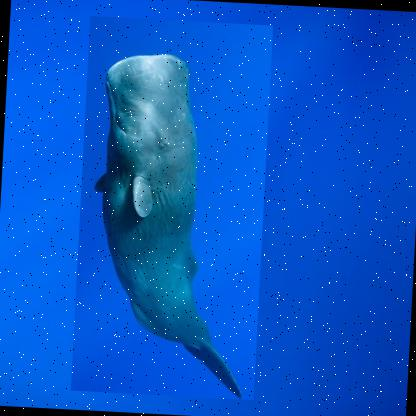sperm_whale: (71, 13, 274, 398)
